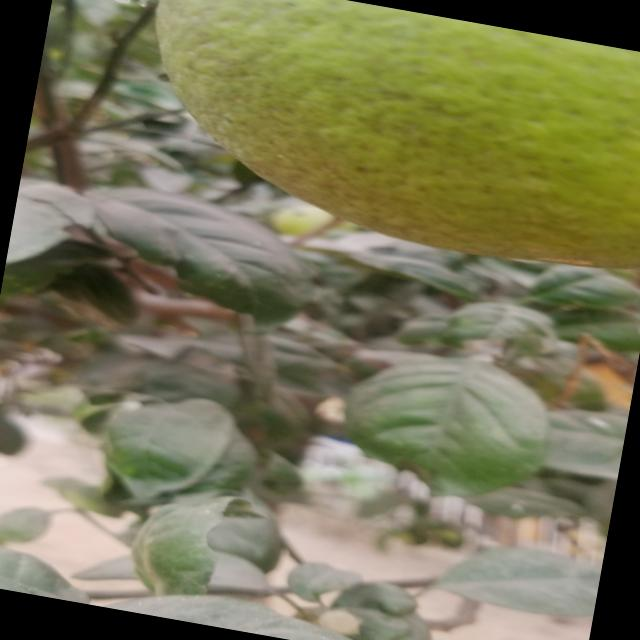Unripe: (107, 0, 640, 282)
